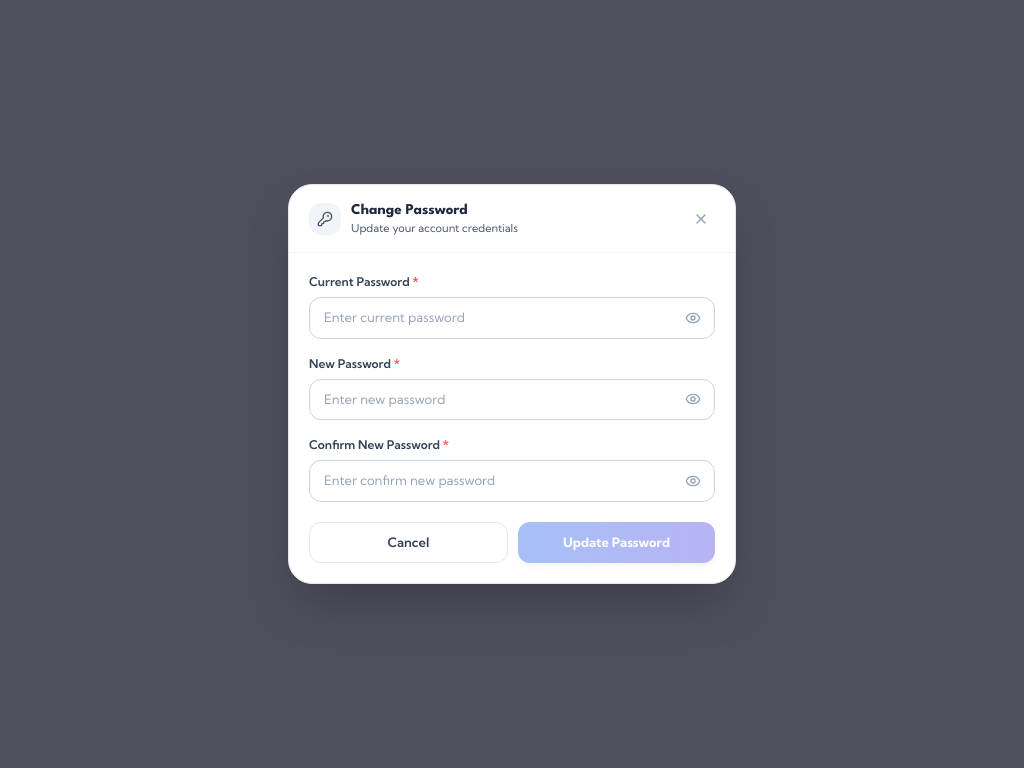
it: ChangePasswordModal › validation › shows 'Current password is required.' after touching and clearing the field
In the password field with placeholder "Enter current password": (512, 318) x1=309 y1=297 x2=715 y2=339, type "x"
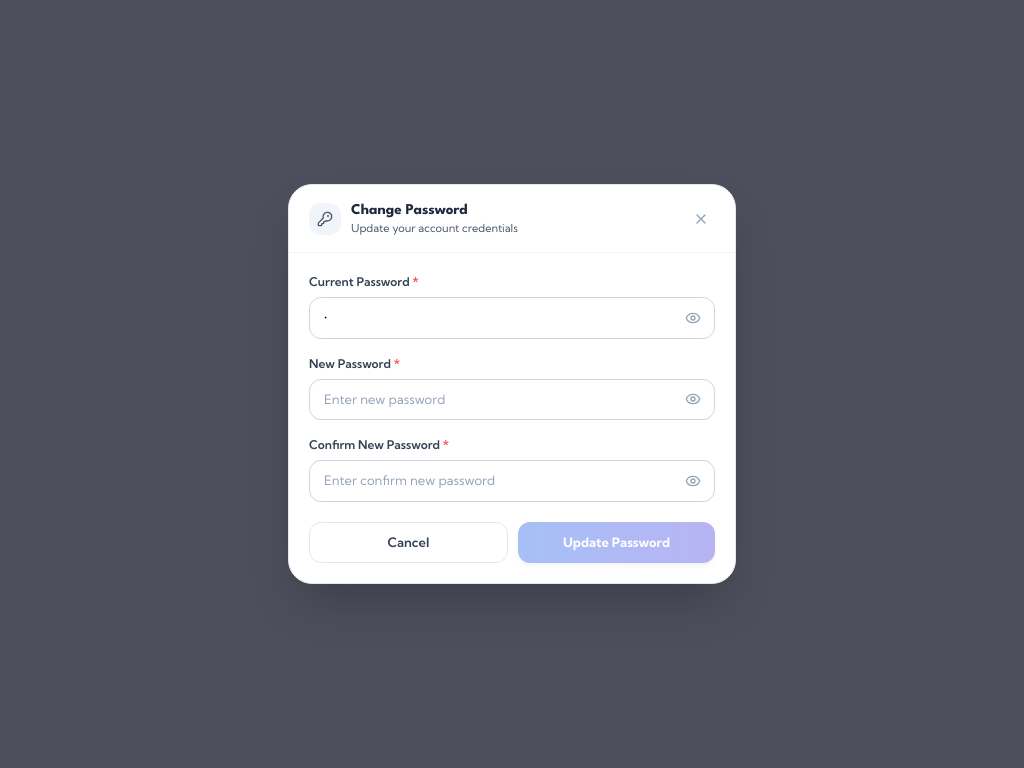
Clear the password field with placeholder "Enter current password": (512, 318) x1=309 y1=297 x2=715 y2=339
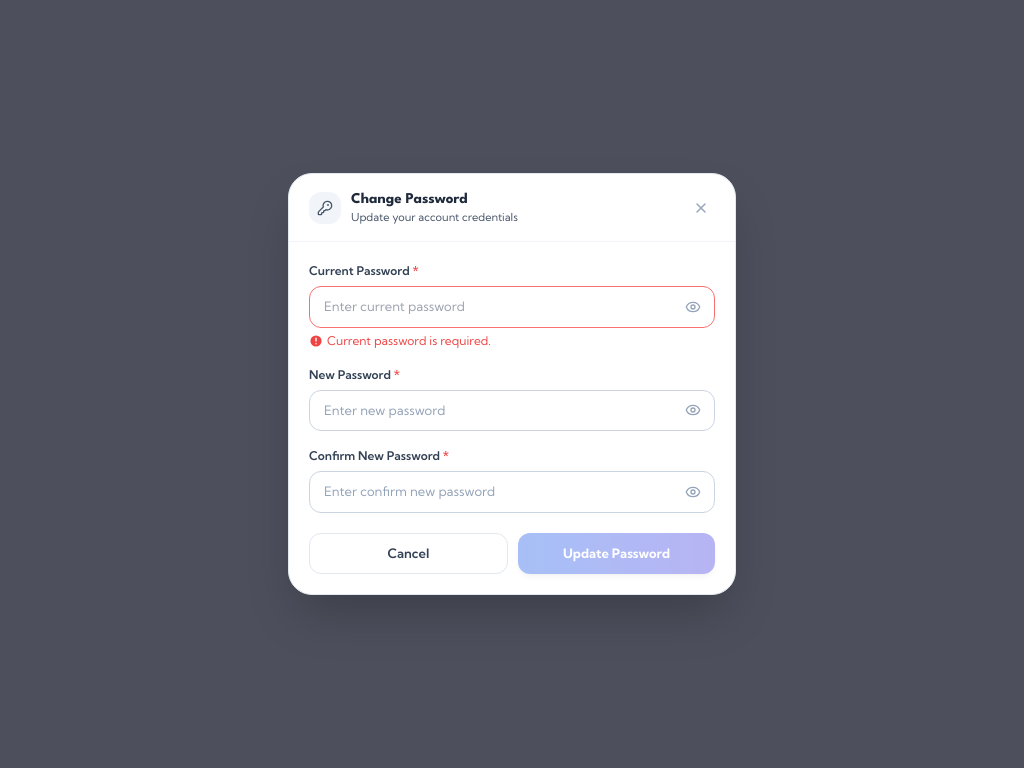
Result: the text "Current password is required." is shown at x1=309 y1=333 x2=491 y2=348
